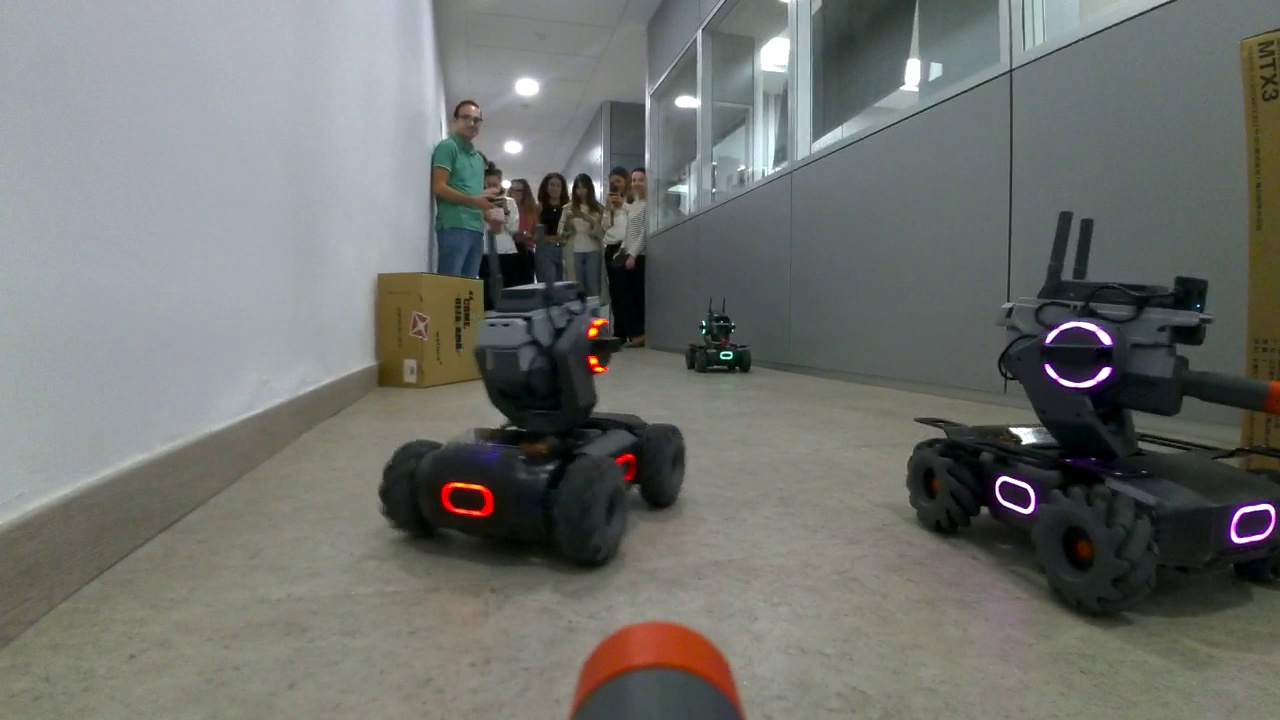robot: (902, 273, 1272, 621), (377, 281, 695, 577), (686, 310, 755, 377)
